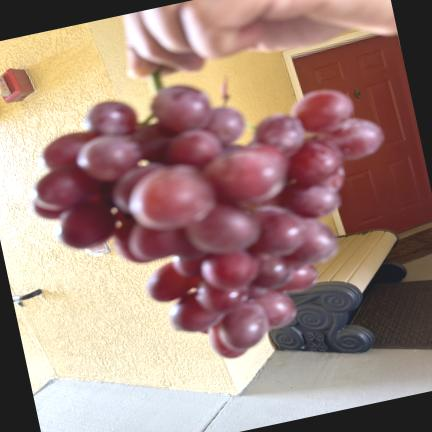grape_cluster: (33, 70, 384, 357)
